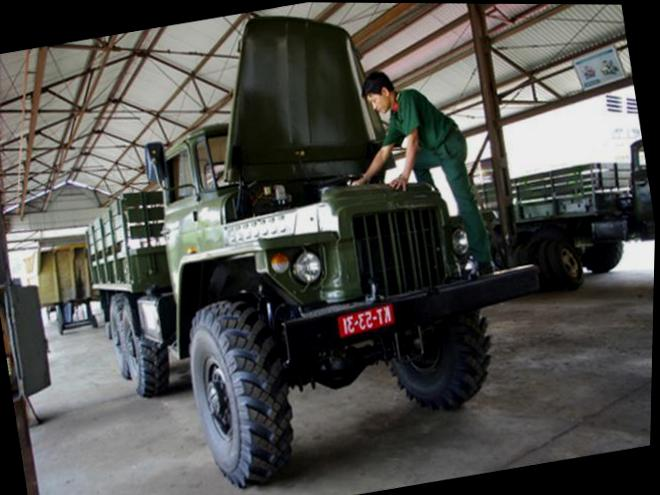License_Plate: (337, 301, 397, 339)
